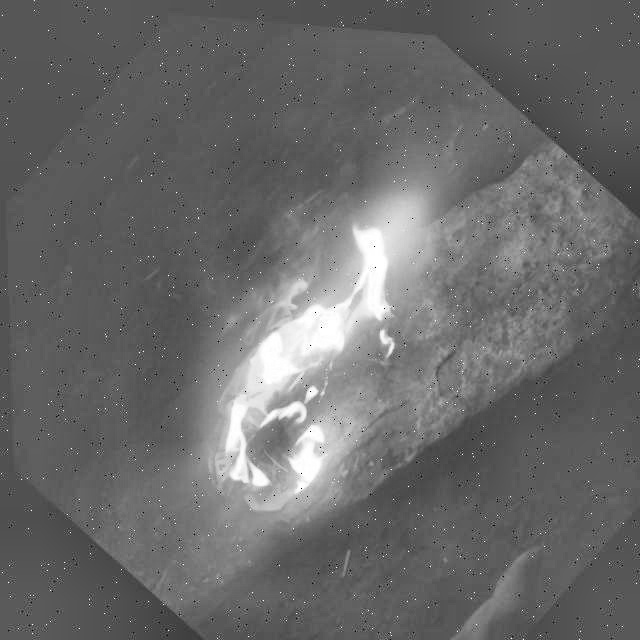Fire: (159, 188, 473, 536)
